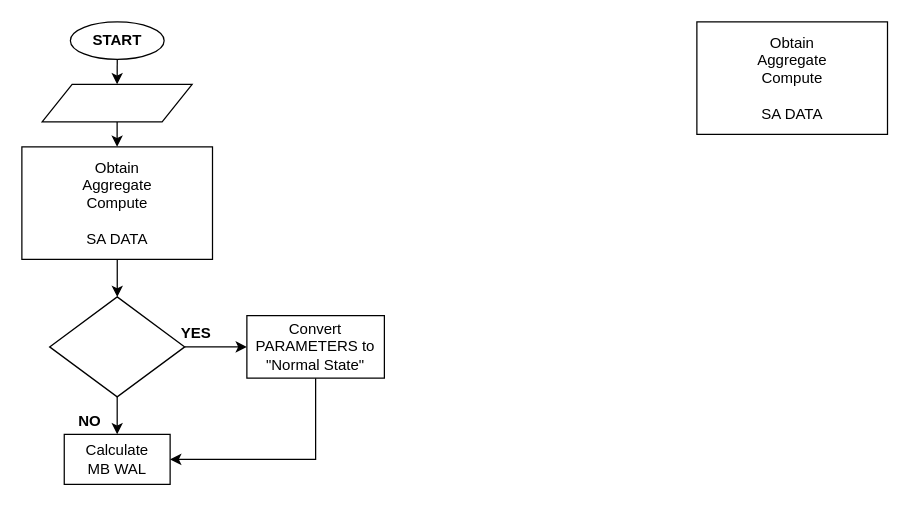
Some shapes in this 910 by 506 pixel diagram are drawn without their labels. Each missing label, with the centre of its shape:
"WAFER LIST" belongs at pixel 116 102.
"With Adjustments? (RFW, SELG, etc)" belongs at pixel 116 346.
